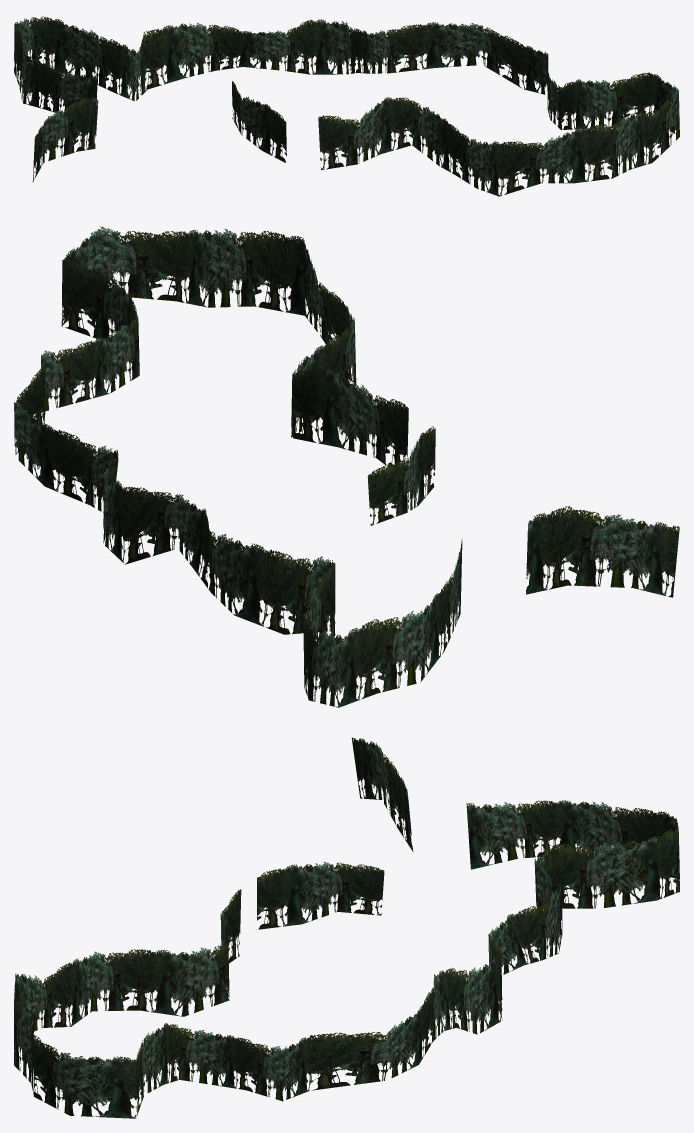
Rendered from MIRKWOOD_MIRK_PLAYSURFACE234.fbx.
3 renders of one model, top to bottom at view 1: azimuth 30°, elevation 25°; view 2: azimuth 150°, elevation 25°; view 3: azimuth 270°, elevation 25°, orthographic. The views are drawn at different scales.
Visible parts, largest first — view 1: MIRKWOOD_MIRK_PLAYSURFACE234; view 2: MIRKWOOD_MIRK_PLAYSURFACE234; view 3: MIRKWOOD_MIRK_PLAYSURFACE234.
Boxes of the visible parts, bbox=[...] form: MIRKWOOD_MIRK_PLAYSURFACE234: bbox=[14, 16, 679, 196]; MIRKWOOD_MIRK_PLAYSURFACE234: bbox=[14, 226, 679, 707]; MIRKWOOD_MIRK_PLAYSURFACE234: bbox=[14, 737, 679, 1118].
Size of the model in its own units: 2724928 by 380441 by 2391033.
1 material, 1 textured.
